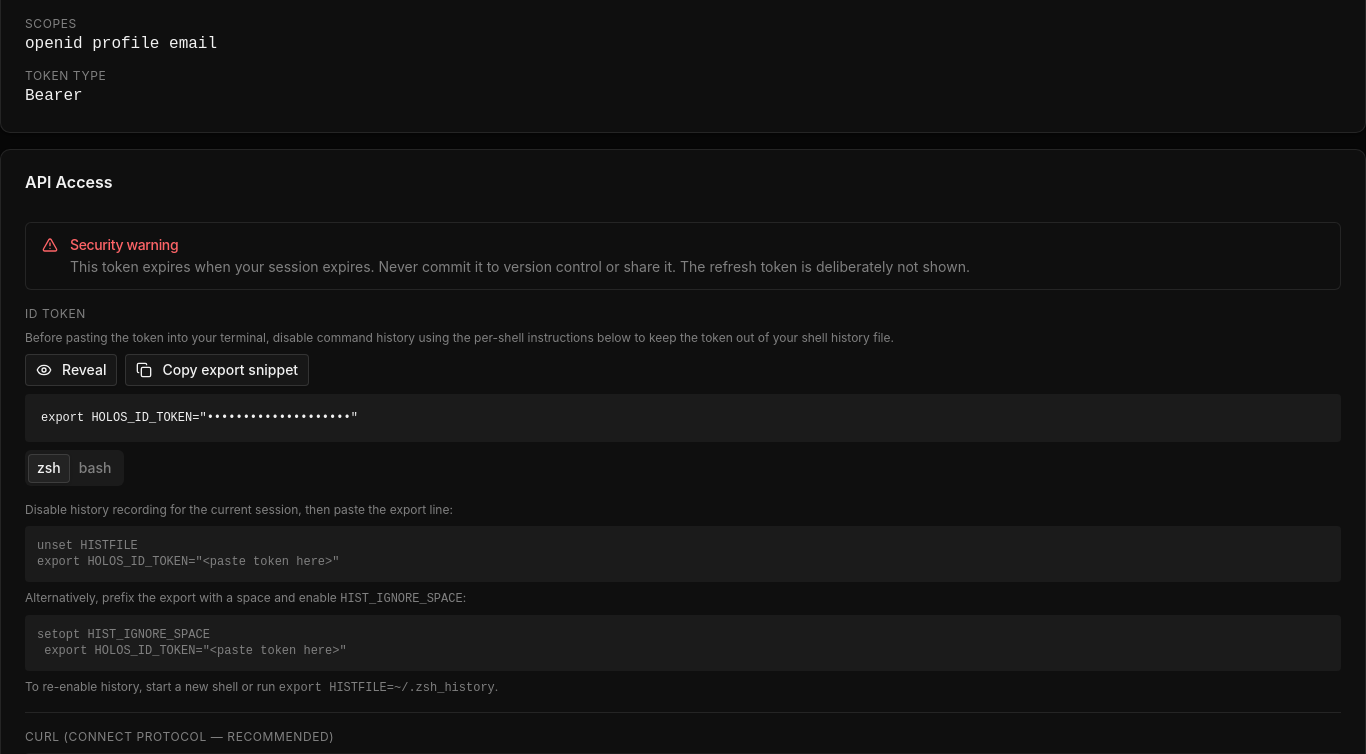
Test: ProfilePage API Access section › reveals the id_token when Reveal is clicked
(page scrolled)
Click the button "Reveal": (71, 370) [25,354,118,386]
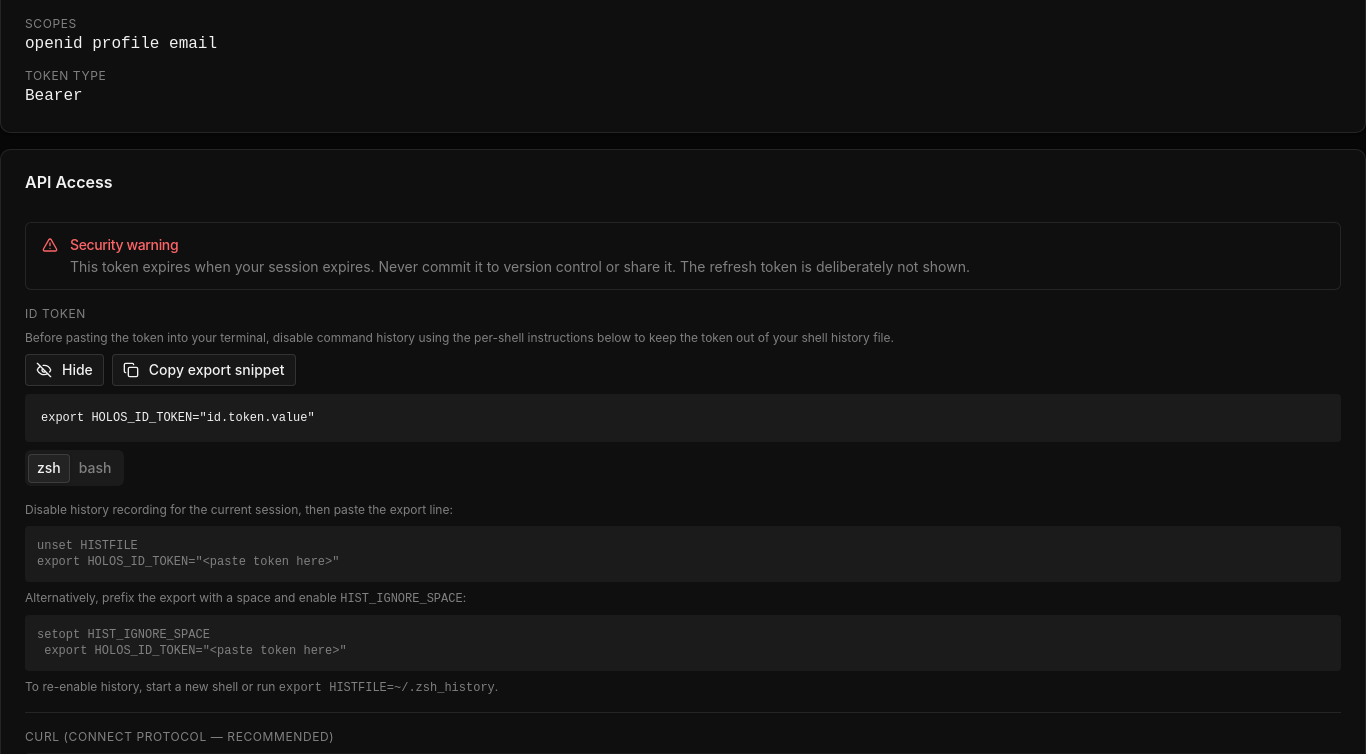
Check: the text "export HOLOS_ID_TOKEN=\"id.token.value\"" is shown, box [25,394,1341,442]
